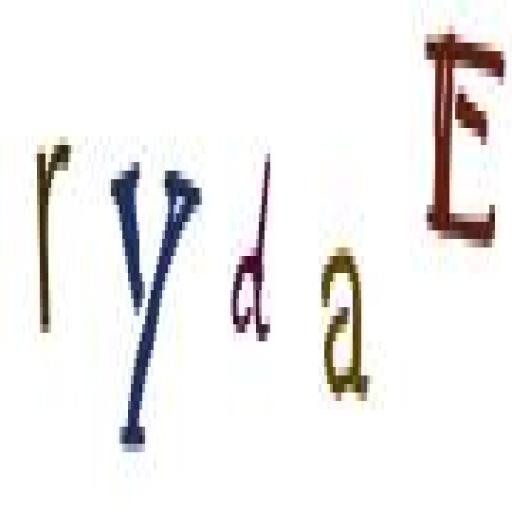E: (421, 17, 506, 263)
Y: (100, 142, 203, 464)
a: (315, 234, 372, 424)
d: (230, 138, 280, 366)
r: (28, 136, 78, 352)
